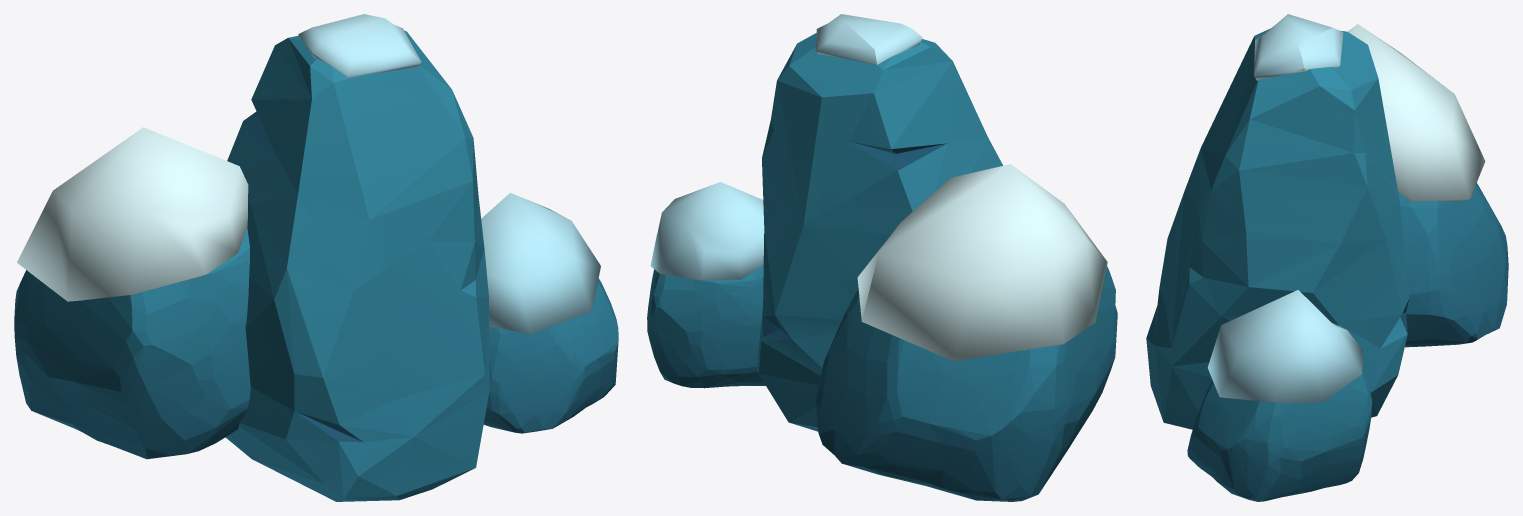
The model's file is Stones_02.fbx.
The picture shows the model from 3 angles, left to right: view 1: azimuth 30°, elevation 25°; view 2: azimuth 150°, elevation 25°; view 3: azimuth 270°, elevation 25°; orthographic projection. The views are drawn at different scales.
Visible parts, largest first — view 1: Floating_Rock_1_Big_0_1.001, Plane.035, Plane.033; view 2: Plane.035, Floating_Rock_1_Big_0_1.001, Plane.033; view 3: Floating_Rock_1_Big_0_1.001, Plane.033, Plane.035.
Part boxes in pixels (x1,y1,x2,y2): Floating_Rock_1_Big_0_1.001: (225, 14, 489, 501); Plane.035: (14, 127, 250, 459); Plane.033: (481, 193, 618, 433); Plane.035: (816, 164, 1117, 501); Floating_Rock_1_Big_0_1.001: (756, 14, 1002, 431); Plane.033: (647, 182, 765, 388); Floating_Rock_1_Big_0_1.001: (1146, 14, 1409, 429); Plane.033: (1187, 290, 1372, 501); Plane.035: (1347, 24, 1508, 347).
Size of the model in its own units: 229 by 180 by 152.
